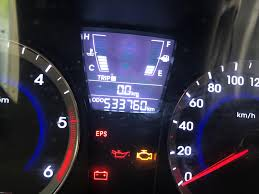Digital_Meter: (86, 94, 163, 113)
